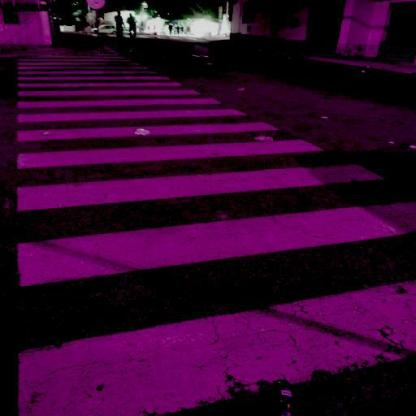crosswalk: (9, 120, 342, 173), (12, 81, 203, 99)
